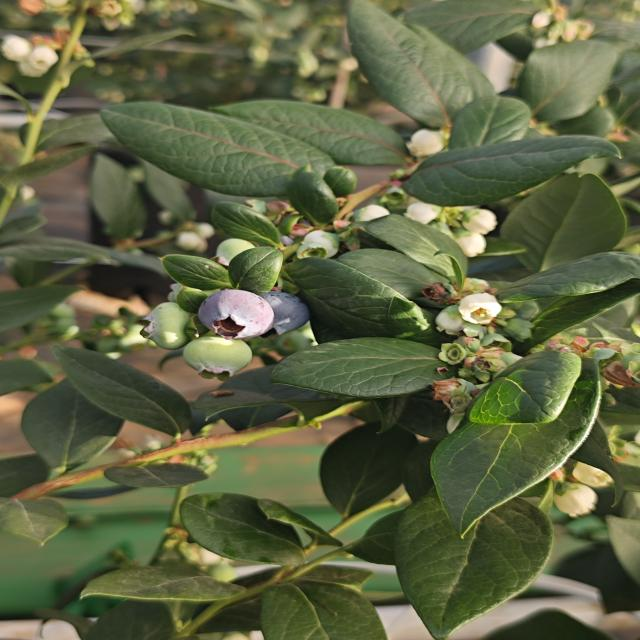ripe: (195, 285, 276, 342), (251, 286, 319, 340)
